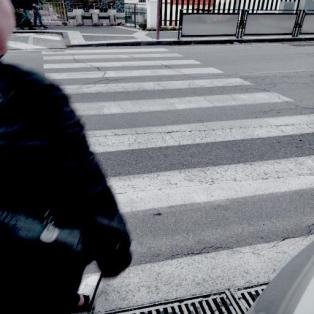Paso de Cebra: (72, 76, 294, 117), (39, 43, 188, 62)
